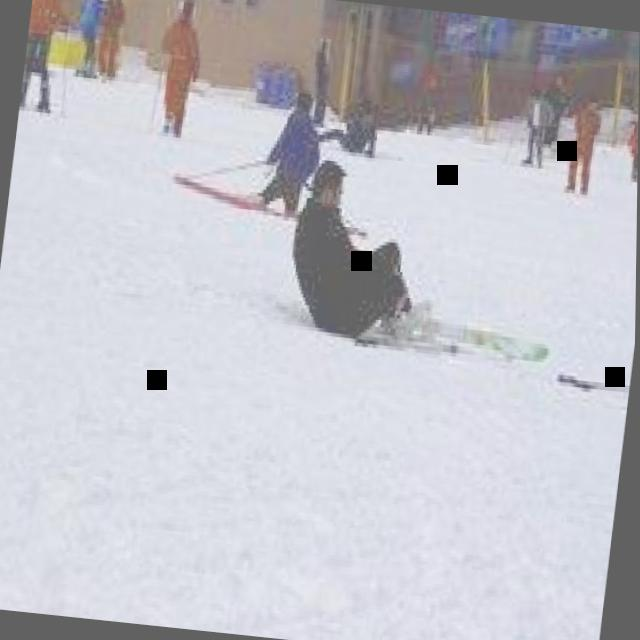Fall-Detected: (248, 68, 340, 214)
